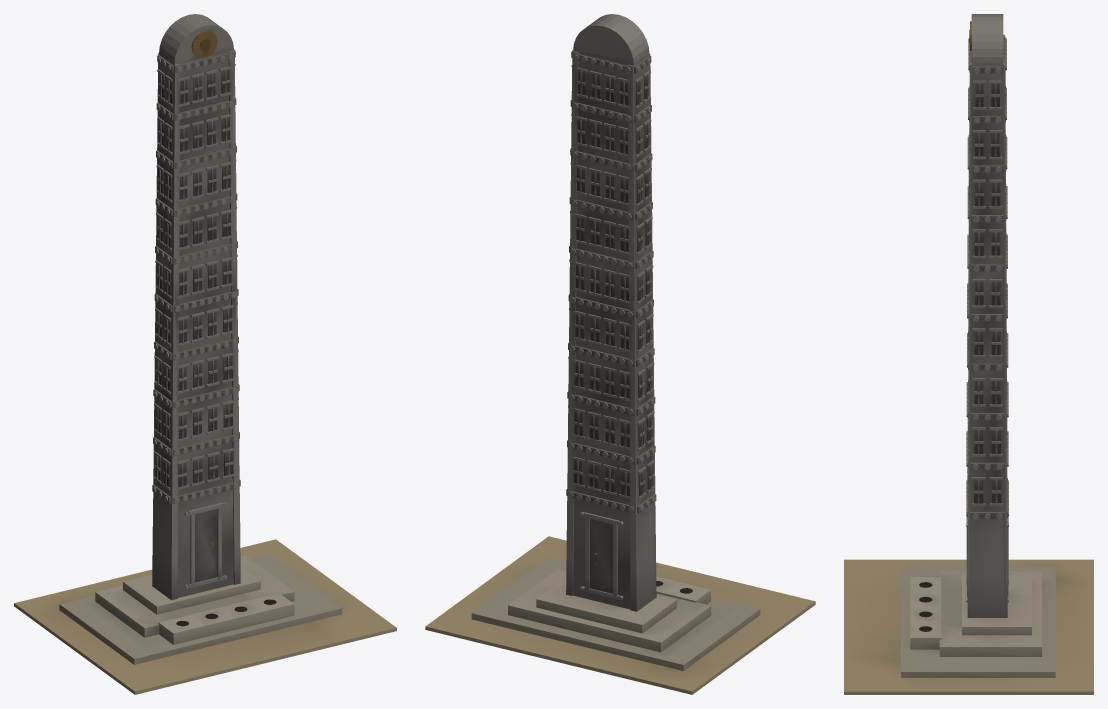
Rendered from ezana-stele.glb.
3 views of the same model, side by side, from view 1: azimuth 30°, elevation 25°; view 2: azimuth 150°, elevation 25°; view 3: azimuth 270°, elevation 25° (orthographic). The views are drawn at different scales.
Visible parts, largest first — view 1: p1_stele, p0_platform; view 2: p1_stele, p0_platform; view 3: p0_platform, p1_stele.
Part boxes in pixels (box(x1,y1,x2,y2)): p1_stele: box(152, 14, 240, 600); p0_platform: box(14, 539, 396, 694); p1_stele: box(566, 14, 656, 611); p0_platform: box(425, 536, 815, 694); p0_platform: box(844, 559, 1093, 694); p1_stele: box(966, 14, 1008, 617).
Size of the model in its own units: 10 by 21.61 by 8.
